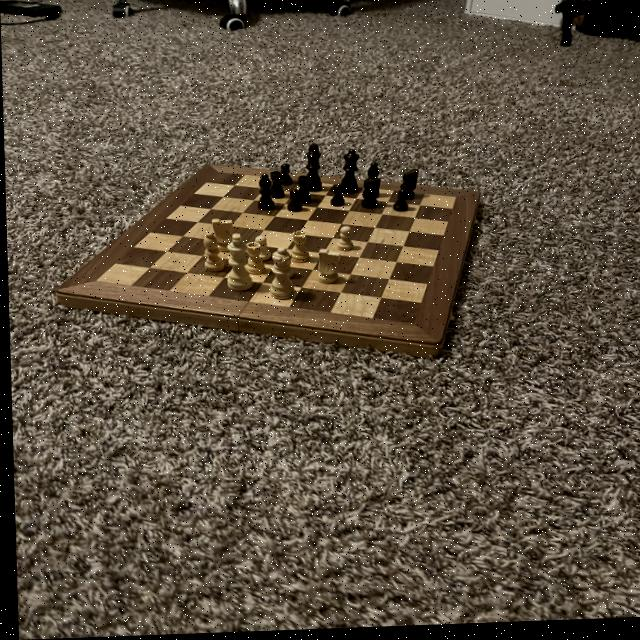bishop: (253, 174, 279, 214), (363, 164, 382, 200)
black-bishop: (302, 142, 324, 197)
black-king: (396, 171, 420, 204), (359, 179, 380, 213)
black-knight: (390, 190, 409, 216), (285, 190, 303, 217), (275, 164, 294, 188), (329, 184, 345, 210)
black-pawn: (334, 150, 361, 199)
black-queen: (293, 175, 312, 204), (266, 173, 285, 202)
black-rook: (200, 233, 223, 275)
white-bishop: (220, 231, 253, 295)
white-king: (311, 248, 342, 289), (208, 218, 238, 257)
white-knight: (272, 251, 296, 284), (334, 227, 353, 255), (250, 235, 268, 264)
white-pawn: (267, 248, 295, 304)
white-queen: (241, 242, 266, 278), (286, 230, 310, 266)
